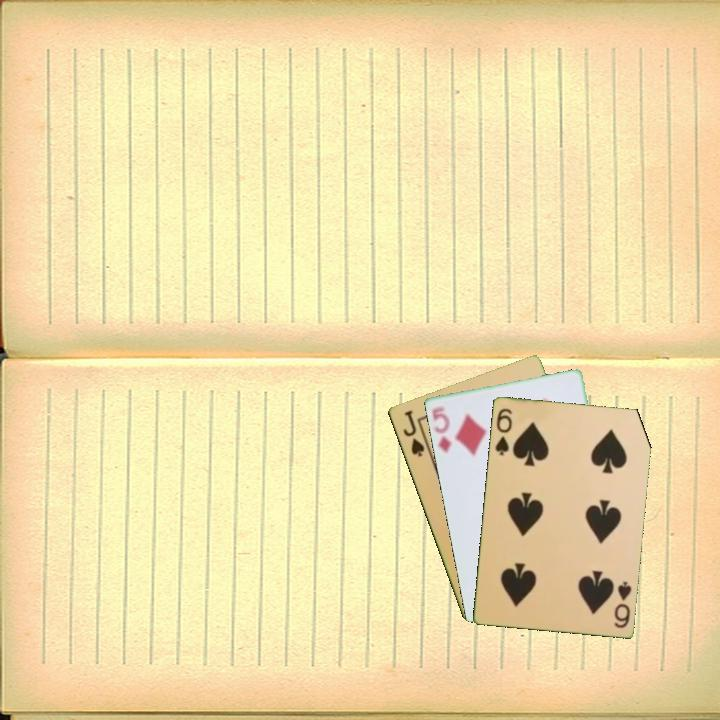5d: (428, 402, 454, 456)
6s: (491, 404, 515, 458), (610, 578, 634, 631)
Js: (399, 406, 427, 459)
